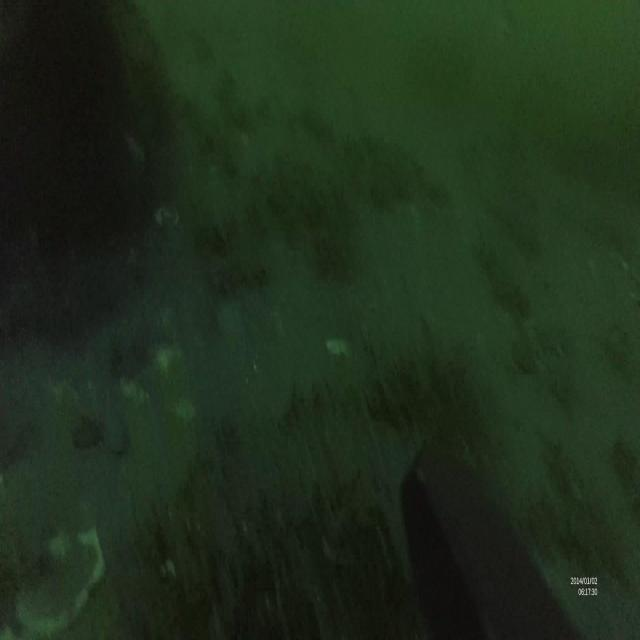scallop: (17, 528, 108, 636)
